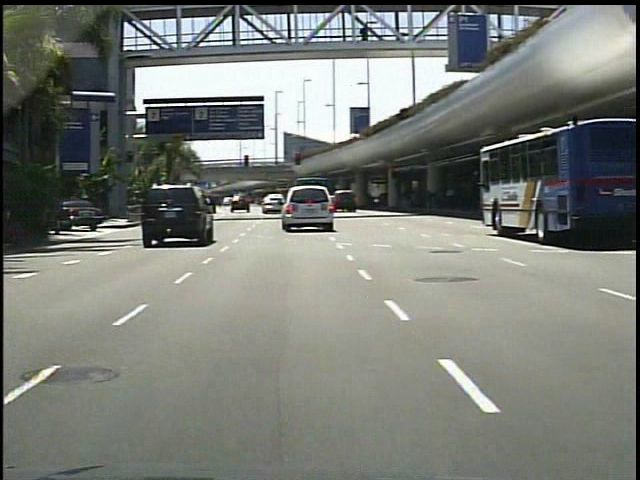person: (347, 24, 366, 48)
